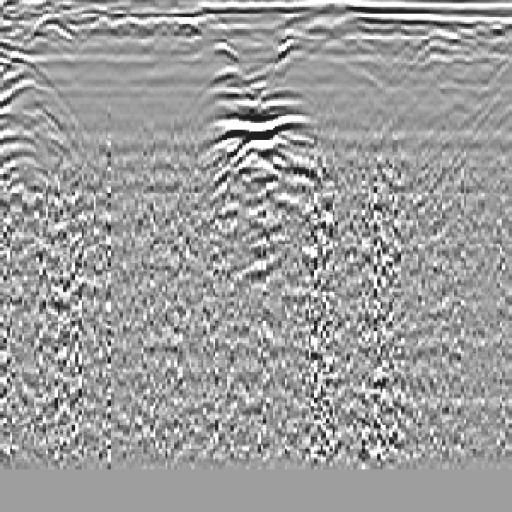metalic: (184, 45, 348, 213)
